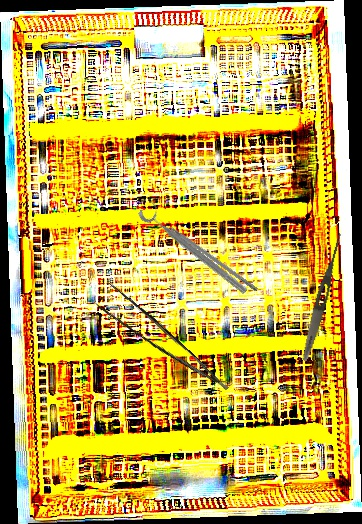Dressing Forceps: (299, 231, 345, 363)
Fixation Ring: (136, 198, 255, 298)
Hook Surgical: (156, 215, 259, 292)
Tissue Forceps: (90, 277, 230, 410)
